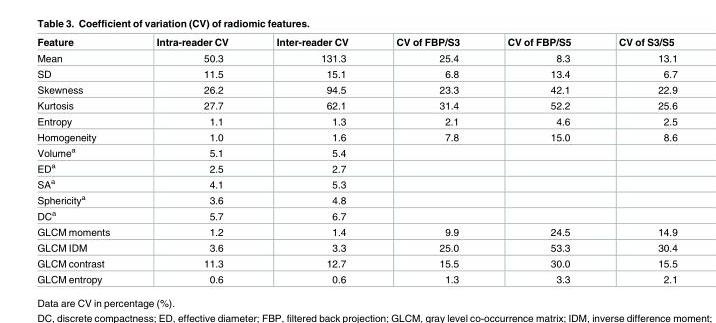table: (36, 37, 676, 284)
table column: (251, 37, 371, 284), (132, 37, 251, 284), (482, 37, 594, 284), (371, 37, 482, 284), (36, 37, 132, 284), (594, 37, 676, 284)
table column header: (36, 37, 676, 50)
table row: (36, 207, 676, 224), (36, 50, 676, 66), (36, 66, 676, 82), (36, 97, 676, 113), (36, 113, 676, 129), (36, 144, 676, 160), (36, 175, 676, 191), (36, 191, 676, 207), (36, 224, 676, 240), (36, 255, 676, 271), (36, 82, 676, 97), (36, 129, 676, 144), (36, 160, 676, 175), (36, 240, 676, 255), (36, 37, 676, 50), (36, 271, 676, 284)
